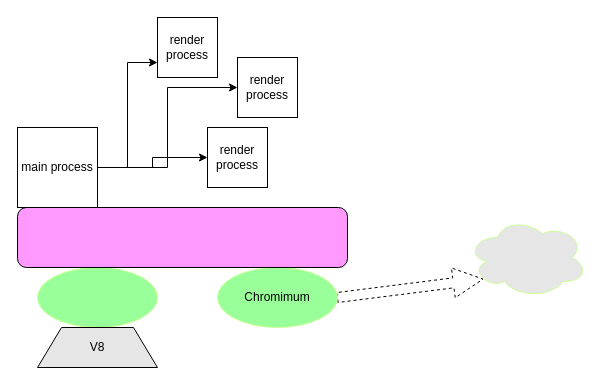
Image size: 605x385. Some labels were removed from this diagram. Here are the shapes that lost their labels. From the top down, the centre of each, then its label:
point 182,237: Electron [ A Desktop application framework using Web Technologies ]
point 527,257: Google Chrome
point 97,297: Node.JS
